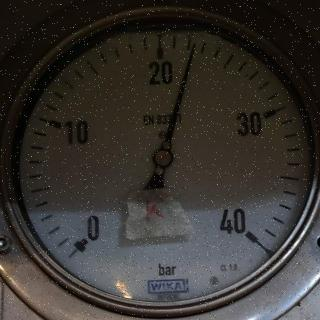gauge: (0, 0, 320, 320), (64, 221, 102, 261), (228, 216, 266, 252), (152, 147, 174, 169), (186, 40, 198, 59)
